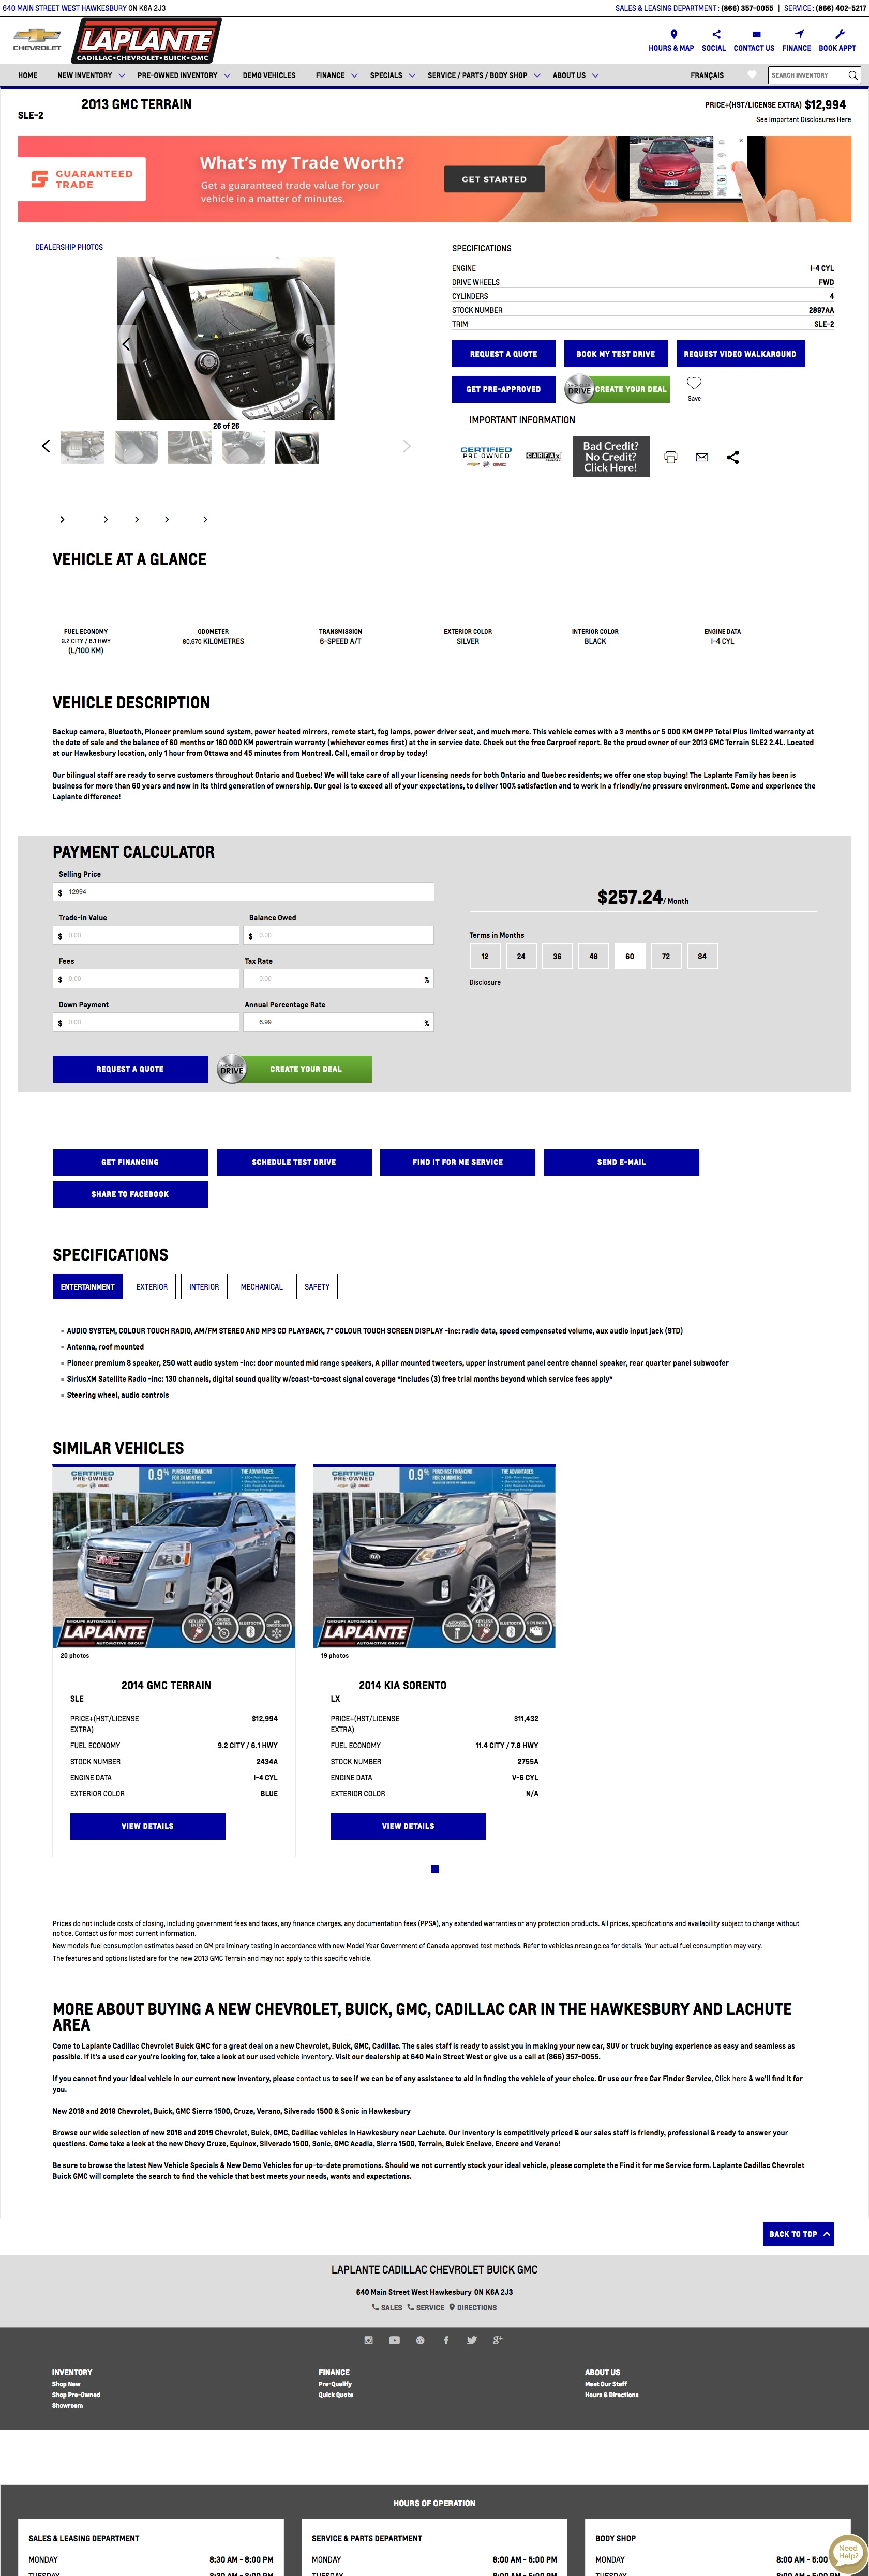car: (401, 440, 414, 453)
